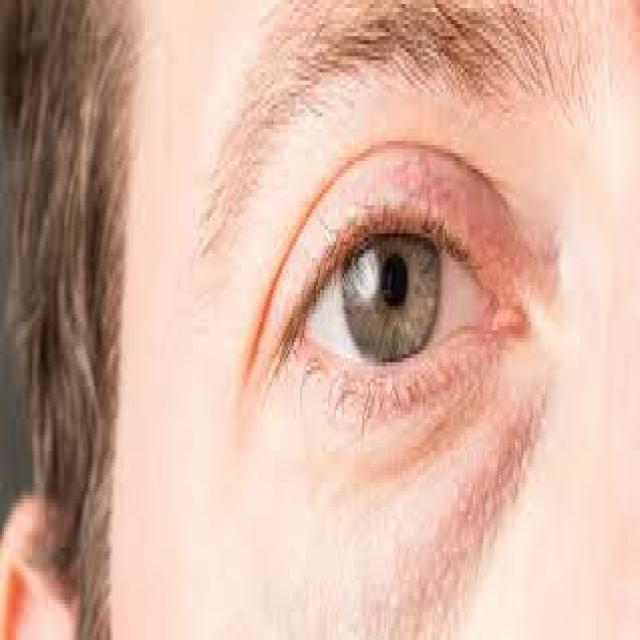Puffy Eyes - v3 Dark Circle: (280, 375, 548, 525)
